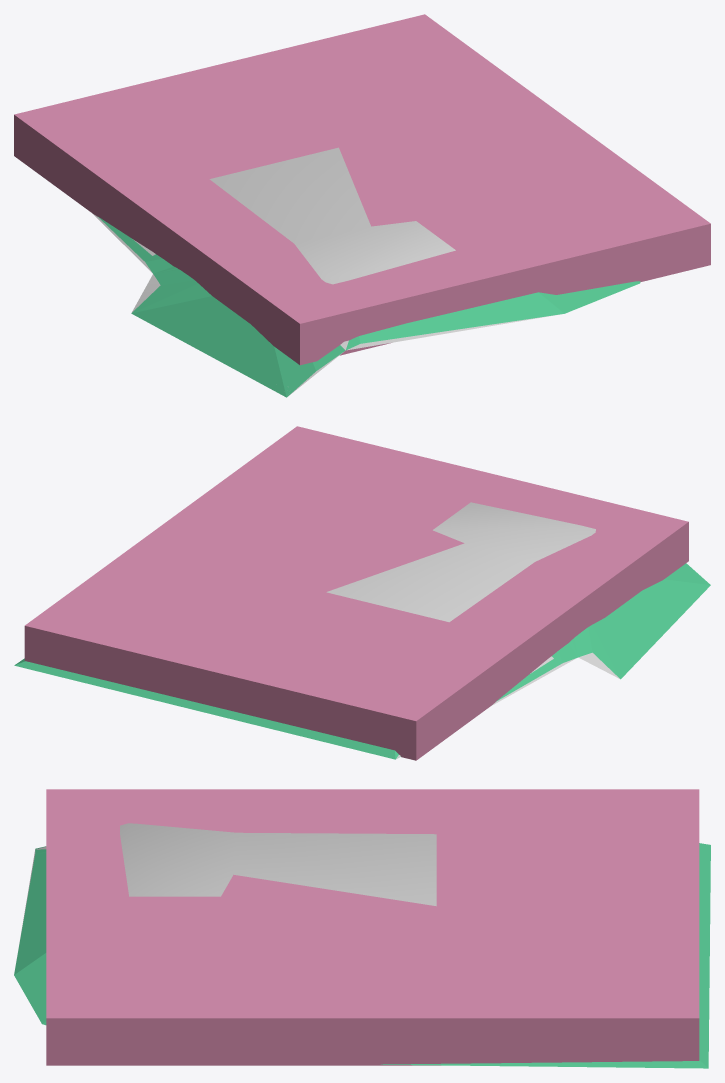
Rendered from parkinglot_01_a.dae.
3 views of the same model, one above another, from view 1: azimuth 30°, elevation 25°; view 2: azimuth 150°, elevation 25°; view 3: azimuth 270°, elevation 25° (orthographic). The views are drawn at different scales.
Visible parts, largest first — view 1: Untitled, ind_bld_a15, Colmesh-1; view 2: Untitled, ind_bld_a15, Colmesh-1; view 3: Untitled, ind_bld_a15, Colmesh-1.
Part boxes in pixels (left/top/right/bottom): Untitled: left=14, top=14, right=710, bottom=365; ind_bld_a15: left=92, top=147, right=560, bottom=396; Colmesh-1: left=98, top=217, right=640, bottom=397; Untitled: left=24, top=426, right=688, bottom=760; ind_bld_a15: left=326, top=502, right=619, bottom=759; Colmesh-1: left=14, top=563, right=710, bottom=759; Untitled: left=46, top=789, right=699, bottom=1065; ind_bld_a15: left=16, top=823, right=436, bottom=962; Colmesh-1: left=14, top=843, right=710, bottom=1068.
Bounding box in the file's own units: 42.3 × 47.94 × 5.97.
